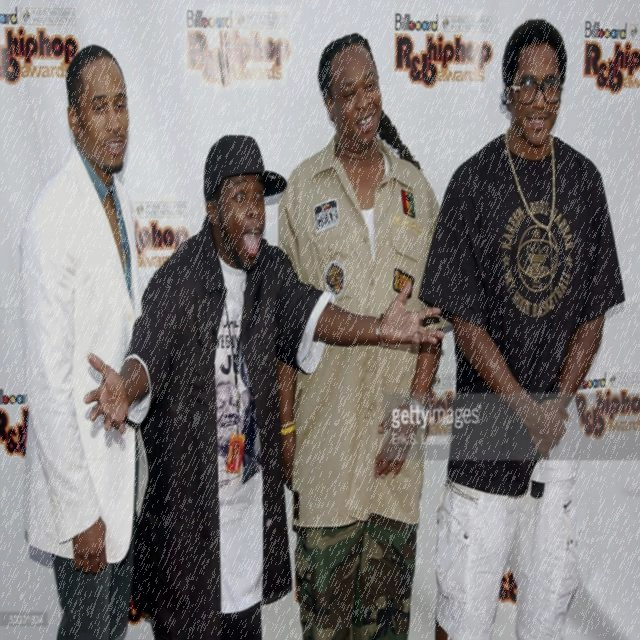pessoa: (80, 127, 448, 639), (415, 9, 628, 639), (272, 31, 440, 640), (16, 40, 152, 639)
